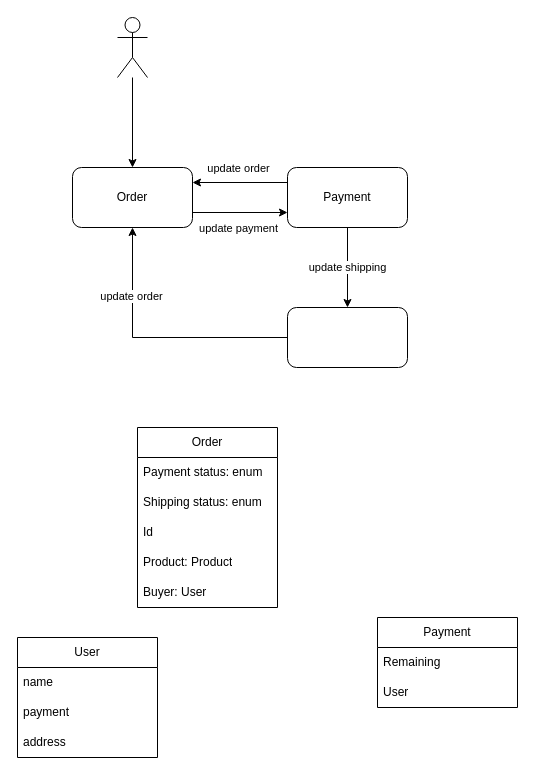
Image size: 535x775. Some labels were removed from this diagram. Here are the shapes that lost their labels. From the top down, the centre of each, then its label:
(132,47): Actor
(347,337): Shipping
